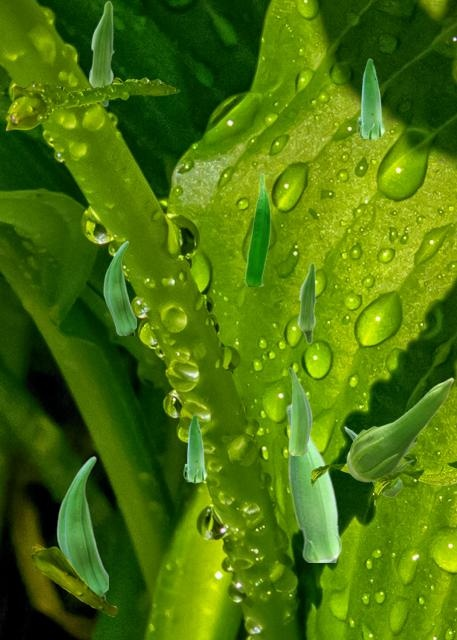okra: (346, 377, 453, 481), (285, 403, 340, 561), (56, 455, 107, 600), (344, 426, 401, 496), (103, 240, 135, 334), (244, 172, 270, 285), (88, 0, 113, 106), (356, 58, 384, 139), (288, 367, 311, 454), (183, 414, 206, 482), (297, 262, 315, 343)
